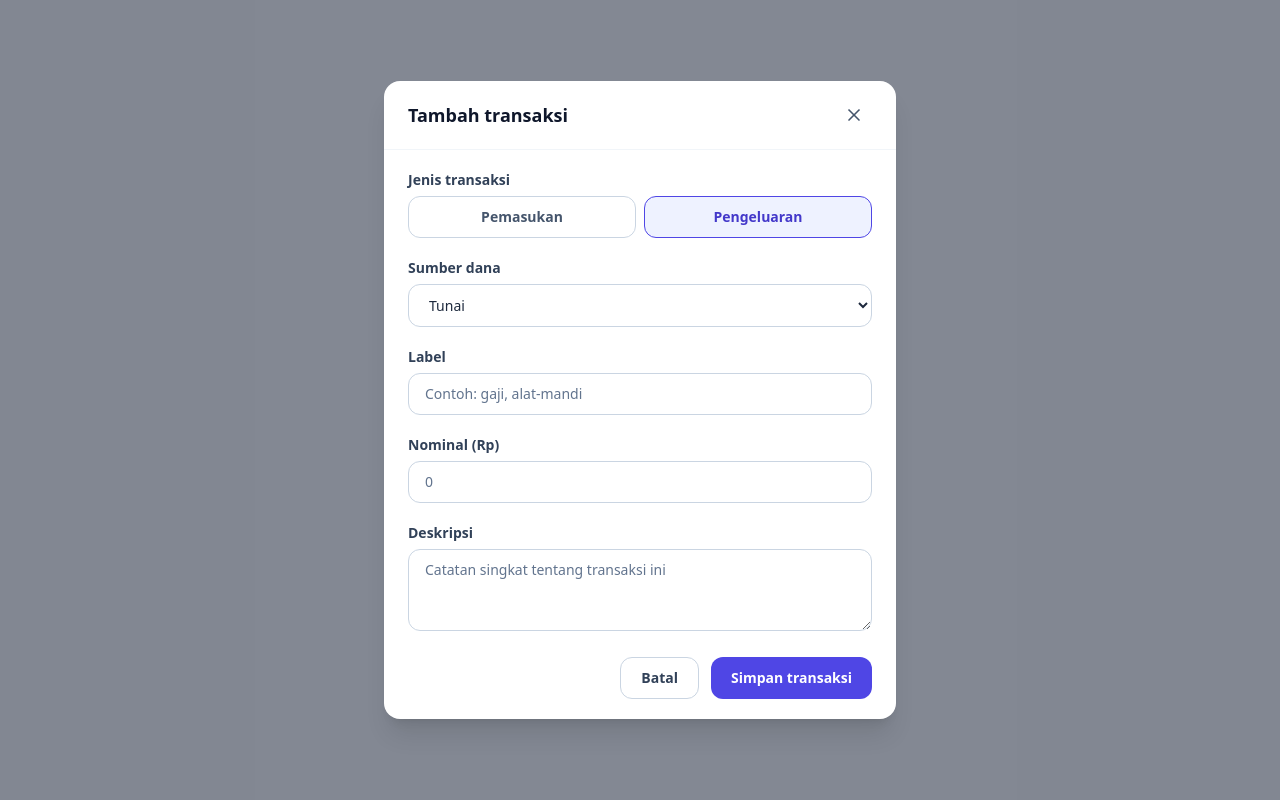
it: CashFlowFormModal › validasi › menolak saat label kosong
The width and height of the screenshot is (1280, 800).
Type "Gaji bulanan" into the text box with id "cashflow-description" at (640, 590), box [408,549,872,631]
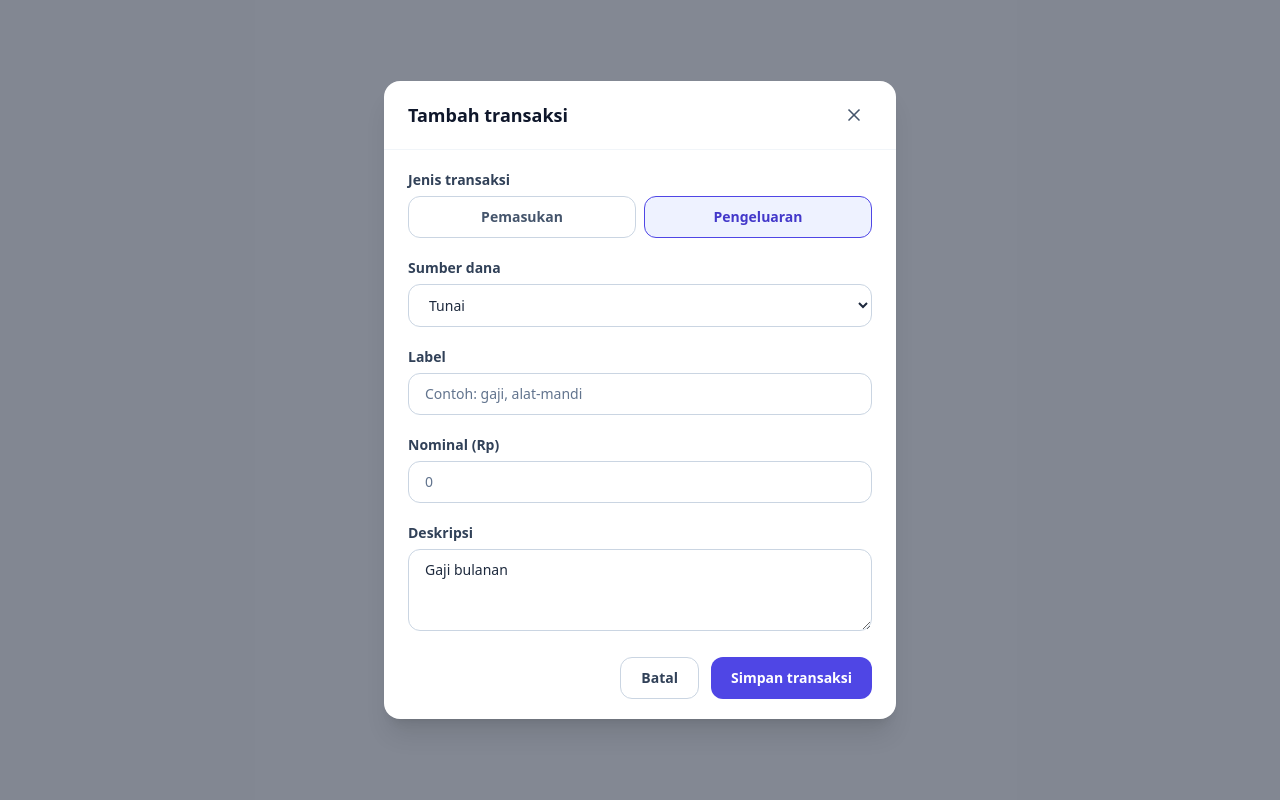
Type "1000" into the number field with id "cashflow-nominal" at (640, 482), box [408,461,872,503]
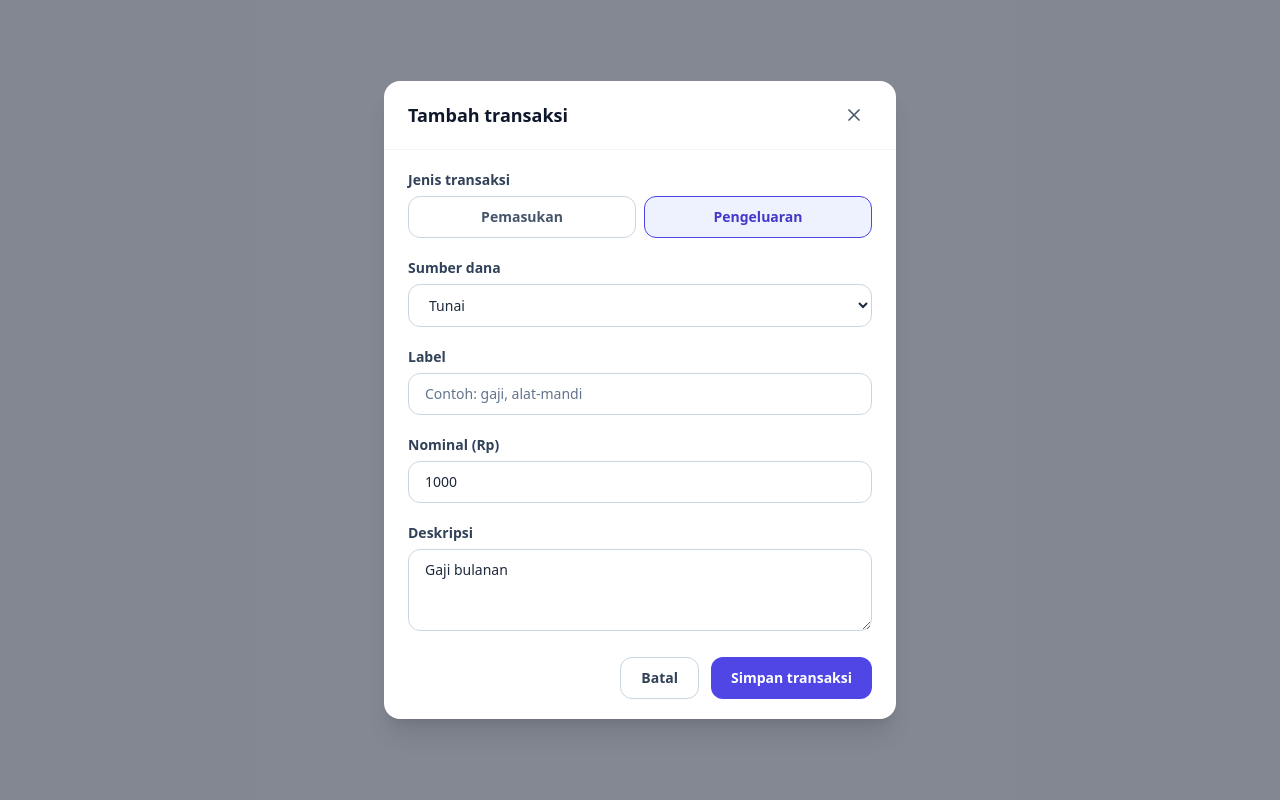
Submit the form, box [408,170,872,699]
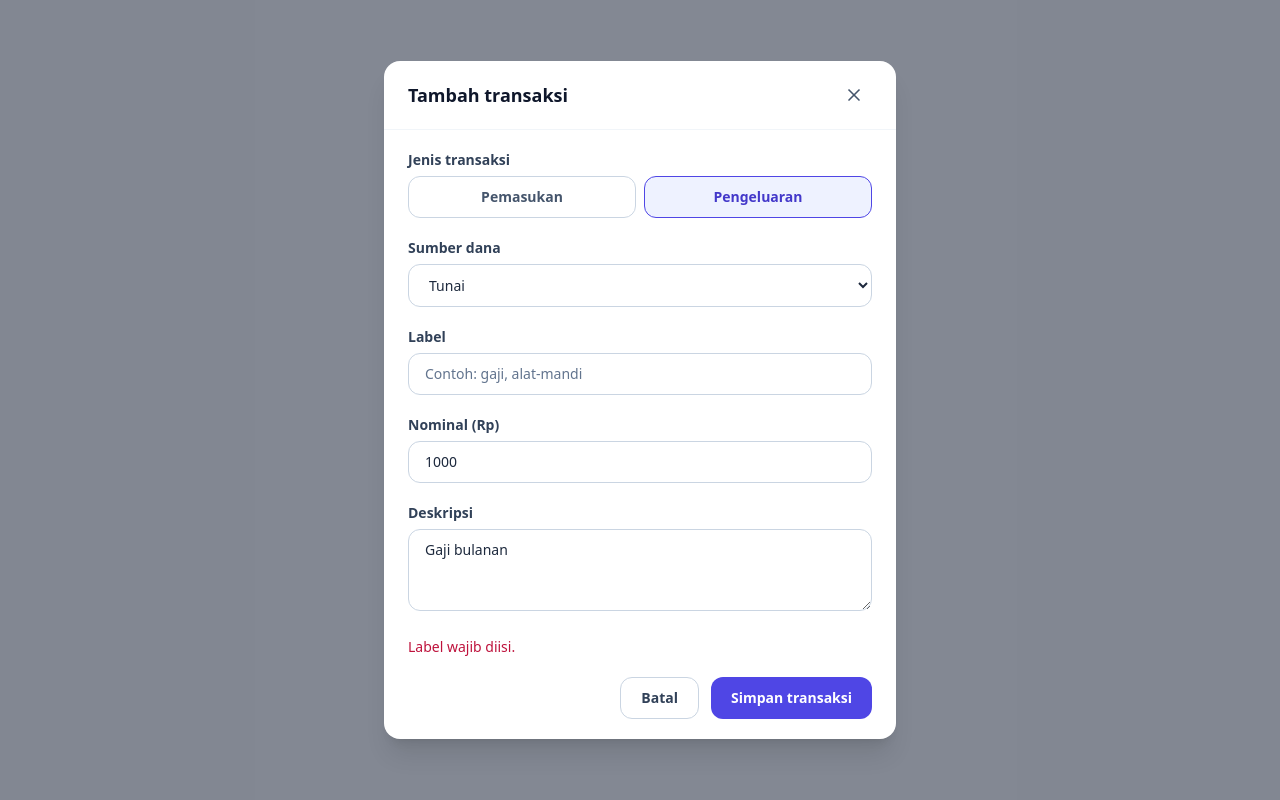
Result: the message "Label wajib diisi." is shown at [408,637,515,656]
